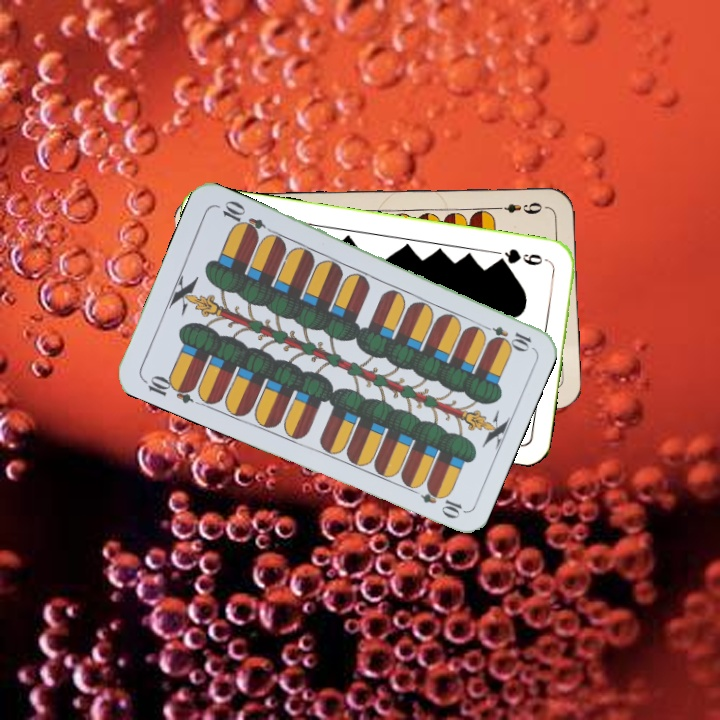E10: (139, 371, 198, 407), (476, 320, 534, 352)
E9: (489, 198, 544, 217)
G9: (492, 244, 551, 268)
